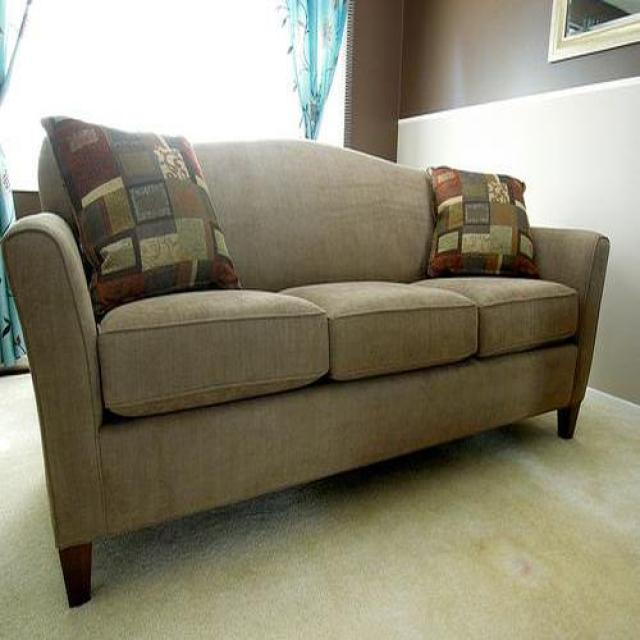sofa: (0, 119, 611, 609)
